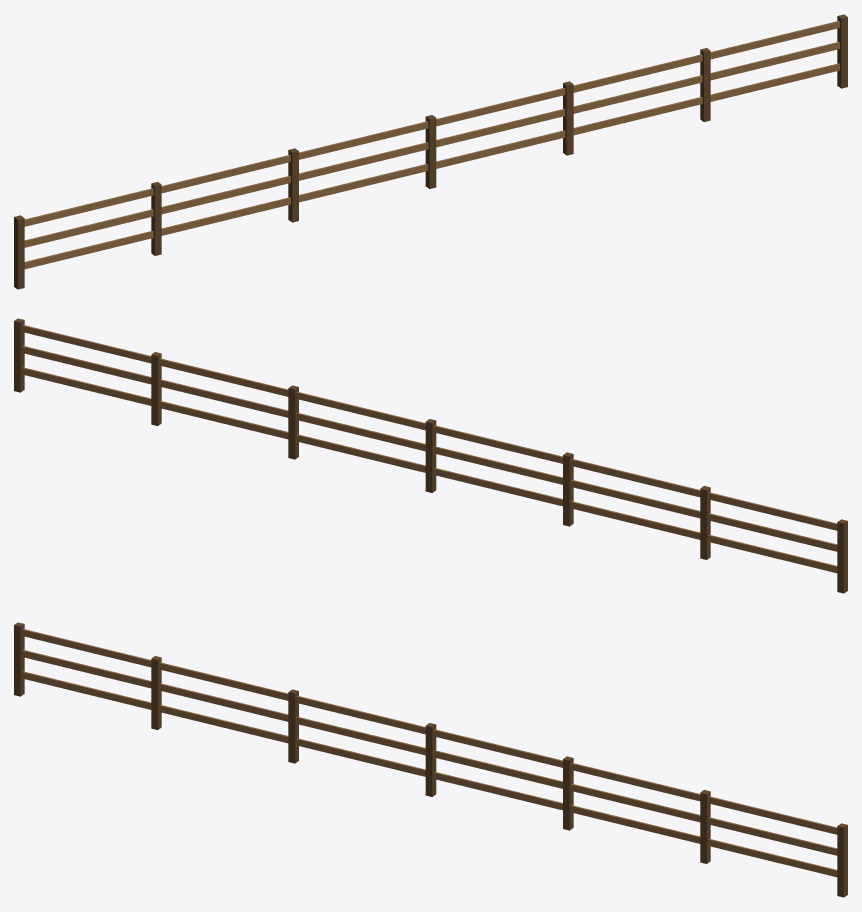
File: pv_pastvina_plot.glb
3 renders of one model, top to bottom at view 1: azimuth 30°, elevation 25°; view 2: azimuth 150°, elevation 25°; view 3: azimuth 330°, elevation 25°, orthographic.
Visible parts, largest first — view 1: pv_pastvina_plot; view 2: pv_pastvina_plot; view 3: pv_pastvina_plot.
Boxes of the visible parts, x1,y1,x2,y2 form: pv_pastvina_plot: (14, 14, 847, 289); pv_pastvina_plot: (14, 318, 847, 593); pv_pastvina_plot: (14, 622, 847, 897).
Bounding box in the file's own units: 14.92 × 1.2 × 0.1202.
Materials: 1 (1 with a texture image).
